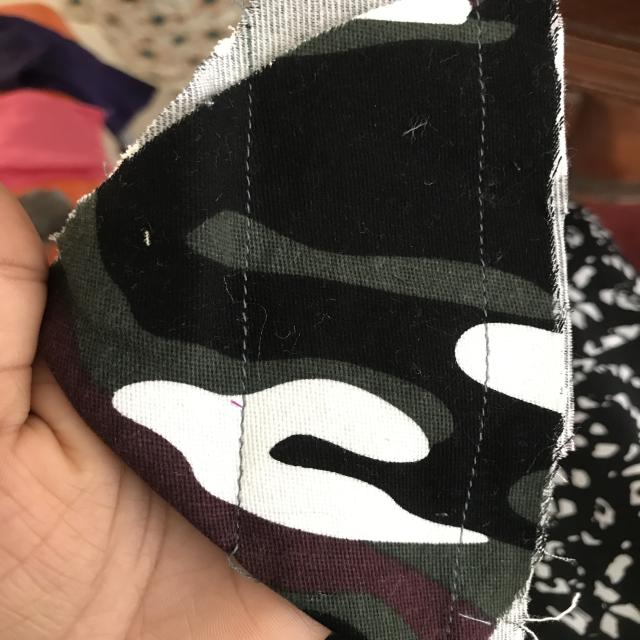good: (225, 104, 267, 209)
